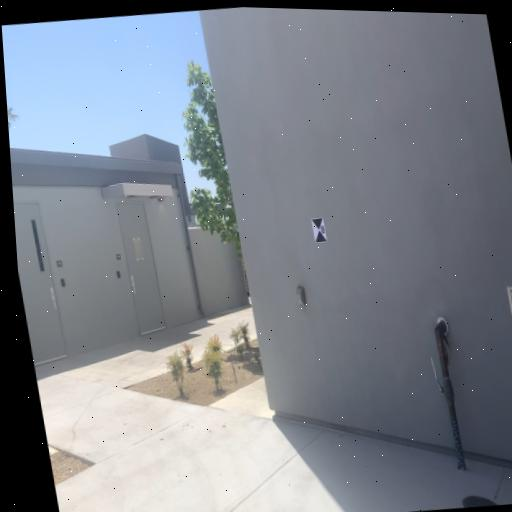target8: (311, 217, 329, 243)
